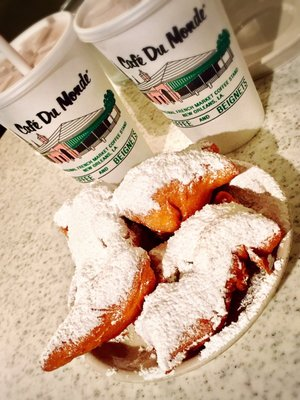burger: (73, 0, 266, 155)
curry: (1, 2, 299, 395)
